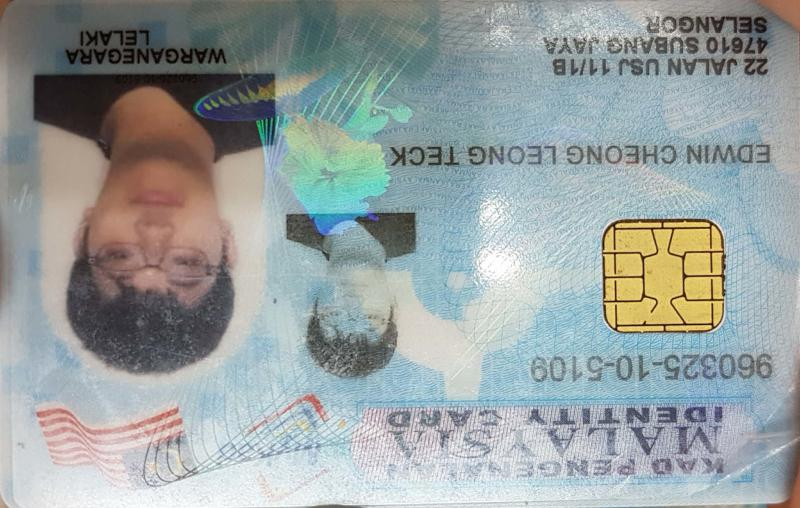hologramB: (269, 94, 389, 214)
